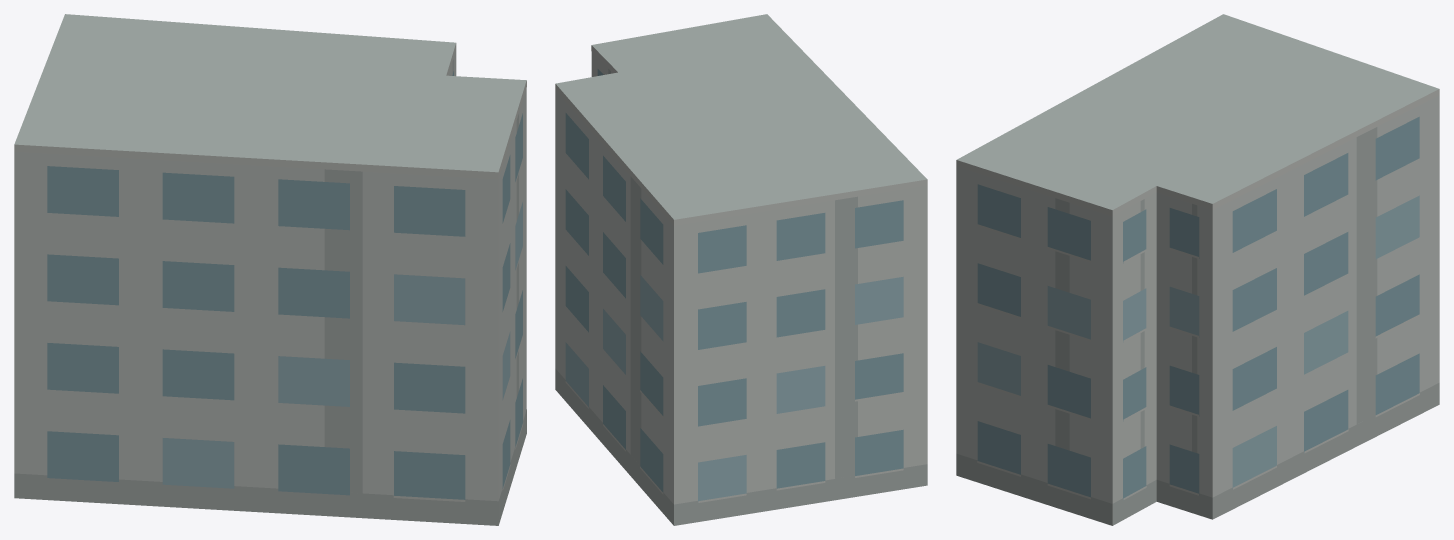
File: residential-f842c9b9-9f5c-42d3-8386-bcbf57fc3a79.glb
The picture shows the model from 3 angles, left to right: view 1: azimuth 30°, elevation 25°; view 2: azimuth 150°, elevation 25°; view 3: azimuth 270°, elevation 25°; orthographic projection. The views are drawn at different scales.
Visible parts, largest first — view 1: residential-f842c9b9-9f5c-42d3-8386-bcbf57fc3a79.tmp; view 2: residential-f842c9b9-9f5c-42d3-8386-bcbf57fc3a79.tmp; view 3: residential-f842c9b9-9f5c-42d3-8386-bcbf57fc3a79.tmp.
Part boxes in pixels (left/top/right/bottom): residential-f842c9b9-9f5c-42d3-8386-bcbf57fc3a79.tmp: left=14, top=14, right=526, bottom=525; residential-f842c9b9-9f5c-42d3-8386-bcbf57fc3a79.tmp: left=555, top=14, right=927, bottom=525; residential-f842c9b9-9f5c-42d3-8386-bcbf57fc3a79.tmp: left=956, top=14, right=1439, bottom=525.
Bounding box in the file's own units: 16.27 × 12.2 × 16.93.
